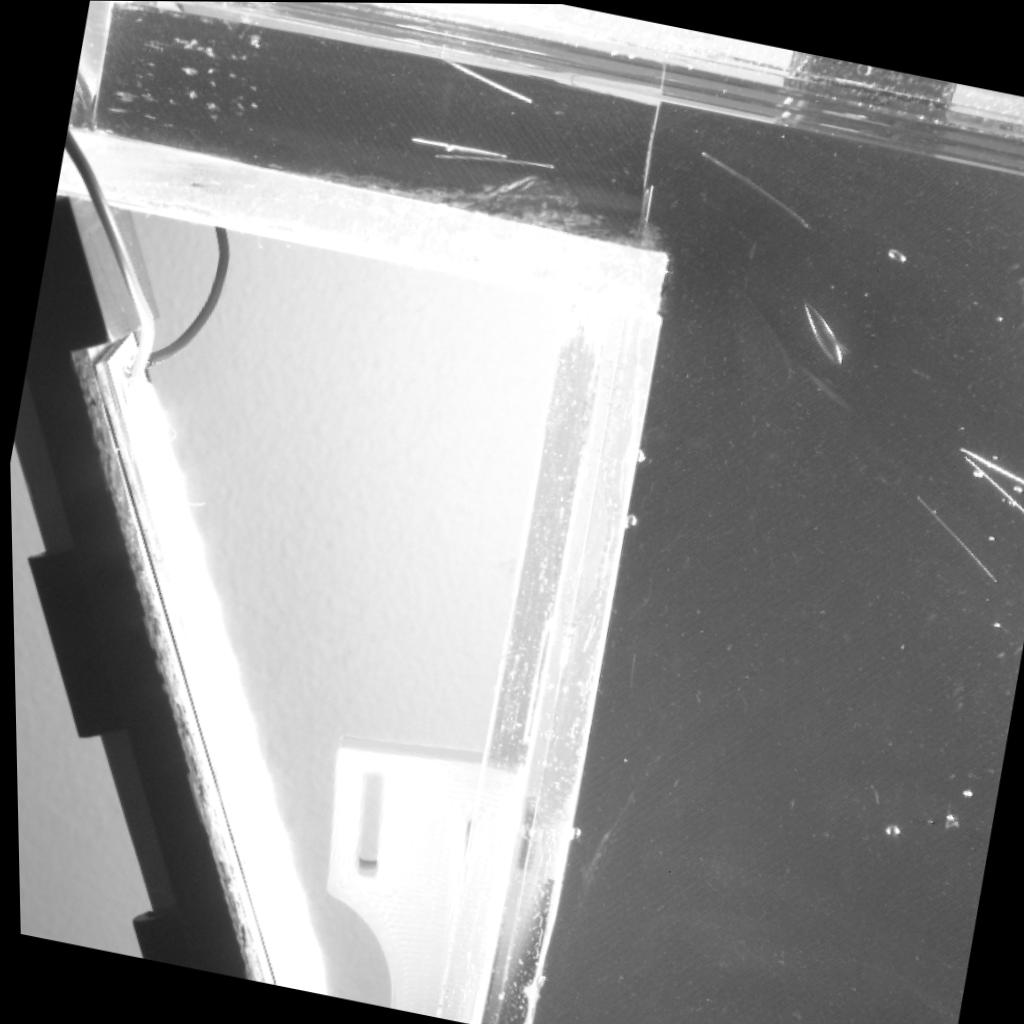Fiber: (697, 146, 811, 230), (910, 491, 1002, 584), (429, 49, 530, 109), (959, 455, 1024, 514), (956, 443, 1024, 485), (430, 149, 552, 170), (407, 135, 506, 159), (618, 647, 634, 714)
